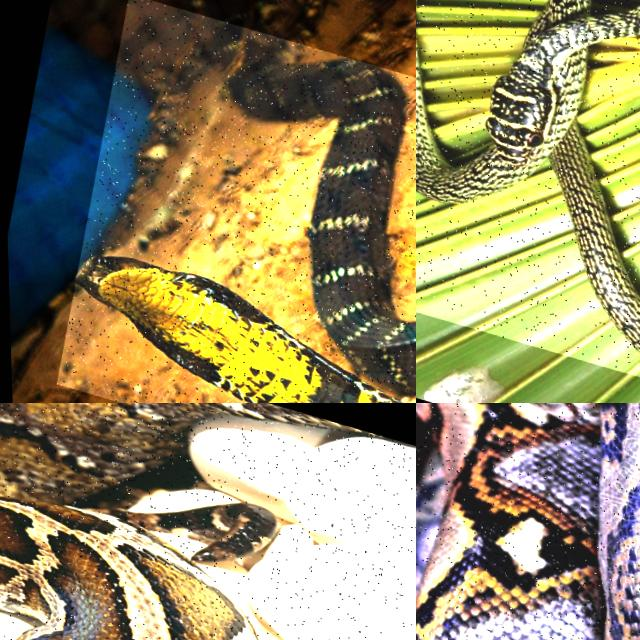Chrysopelea ornata: (416, 0, 639, 351)
Malayopython reticulatus: (416, 403, 639, 639)
Ophiophagus hannah: (230, 58, 415, 394)
Python bivittatus: (0, 403, 338, 639)
snake: (0, 403, 338, 639), (416, 0, 639, 351), (230, 58, 415, 394), (416, 403, 639, 639)
